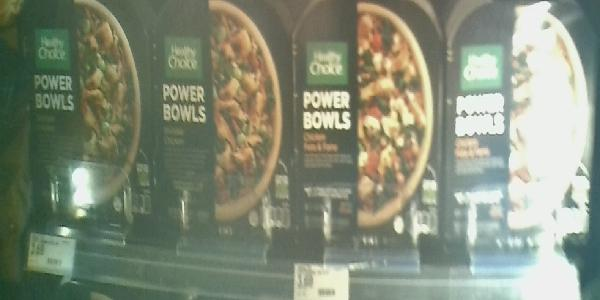pizza1: (442, 1, 600, 270), (292, 1, 442, 261), (153, 1, 289, 259), (19, 1, 152, 242)
